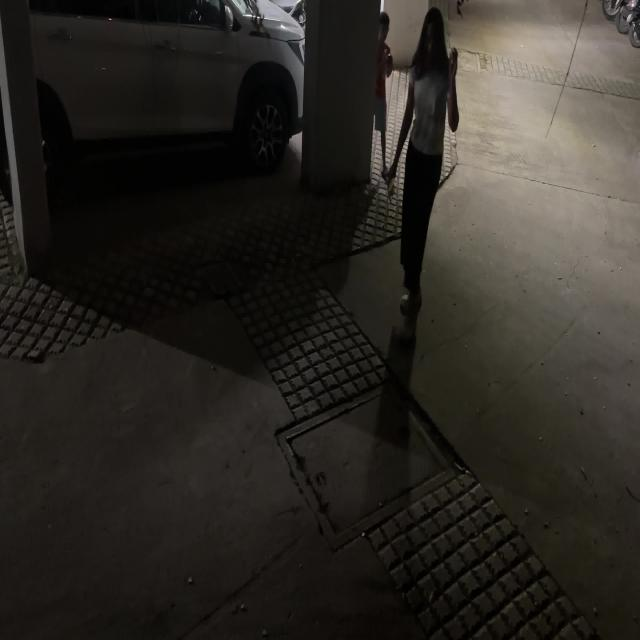human: (387, 0, 461, 350), (366, 11, 394, 181)
trash: (442, 33, 463, 74)
